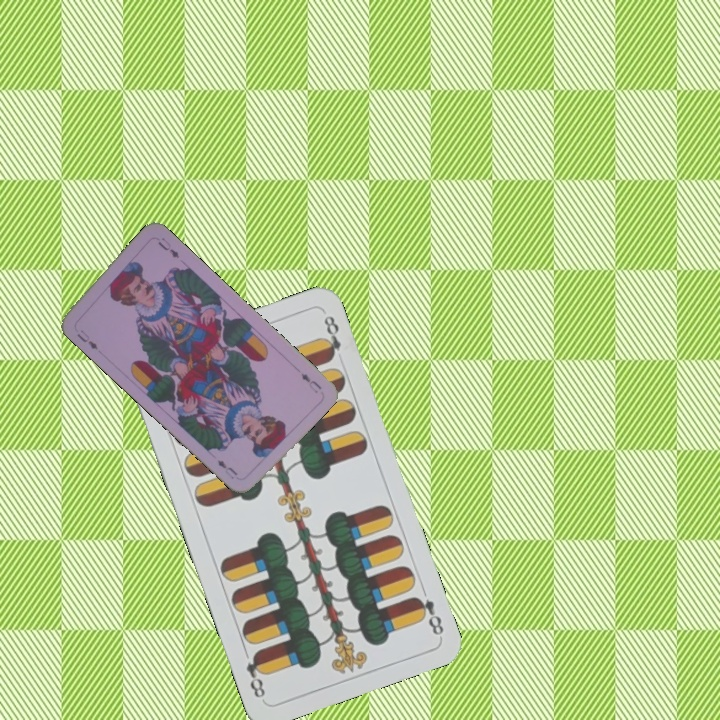E8: (409, 592, 446, 638)
EU: (73, 325, 100, 352), (297, 369, 324, 396)
